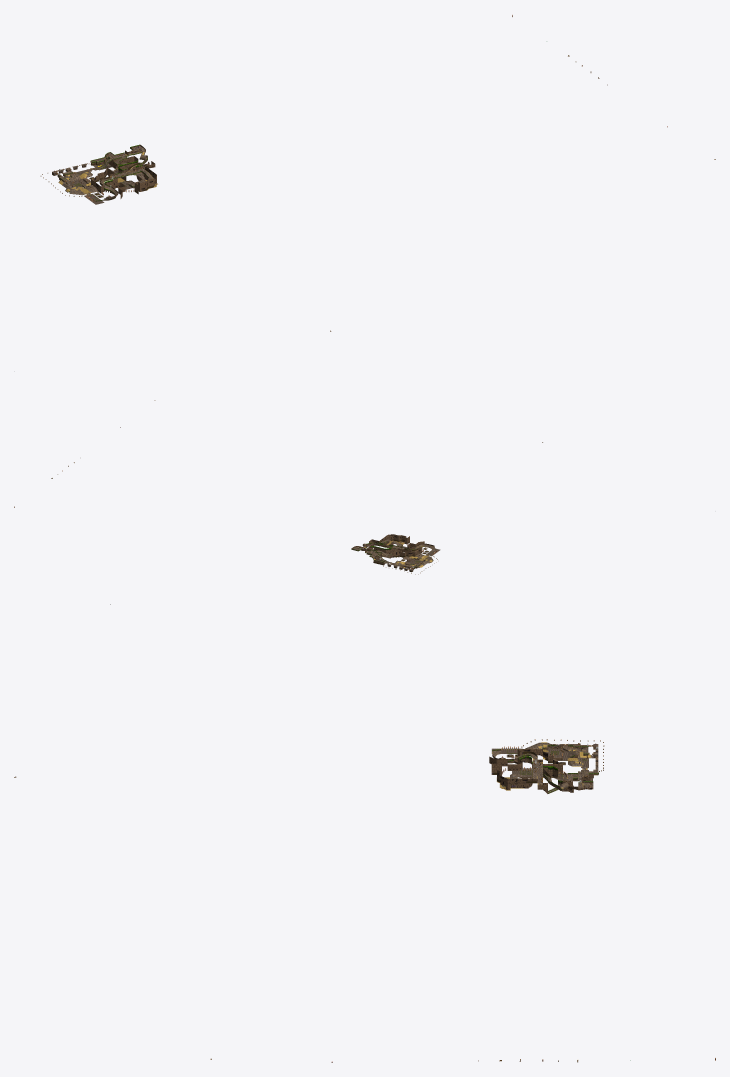
Rendered from ruin.obj.
3 renders of one model, top to bottom at view 1: azimuth 30°, elevation 25°; view 2: azimuth 150°, elevation 25°; view 3: azimuth 270°, elevation 25°, orthographic. The views are drawn at different scales.
Parts seen in each view (by area): view 1: no part large enough to name; view 2: Plane; view 3: Plane.
Part boxes in pixels (box(x1,y1,x2,y2)): Plane: box(366, 540, 440, 566); Plane: box(491, 747, 593, 792).
Size of the model in its own units: 1418 by 20.49 by 918.
